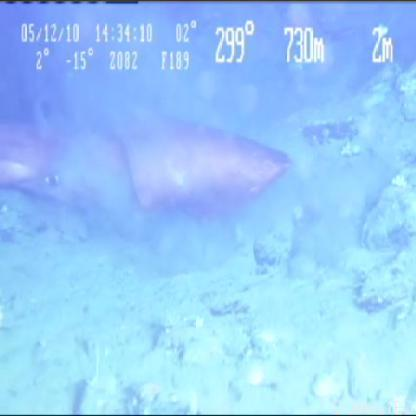Bio: (1, 110, 297, 232)
